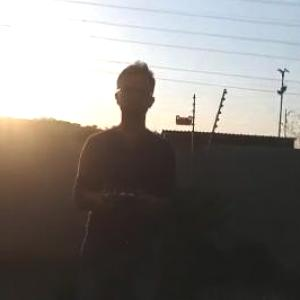follow: (64, 53, 178, 299)
